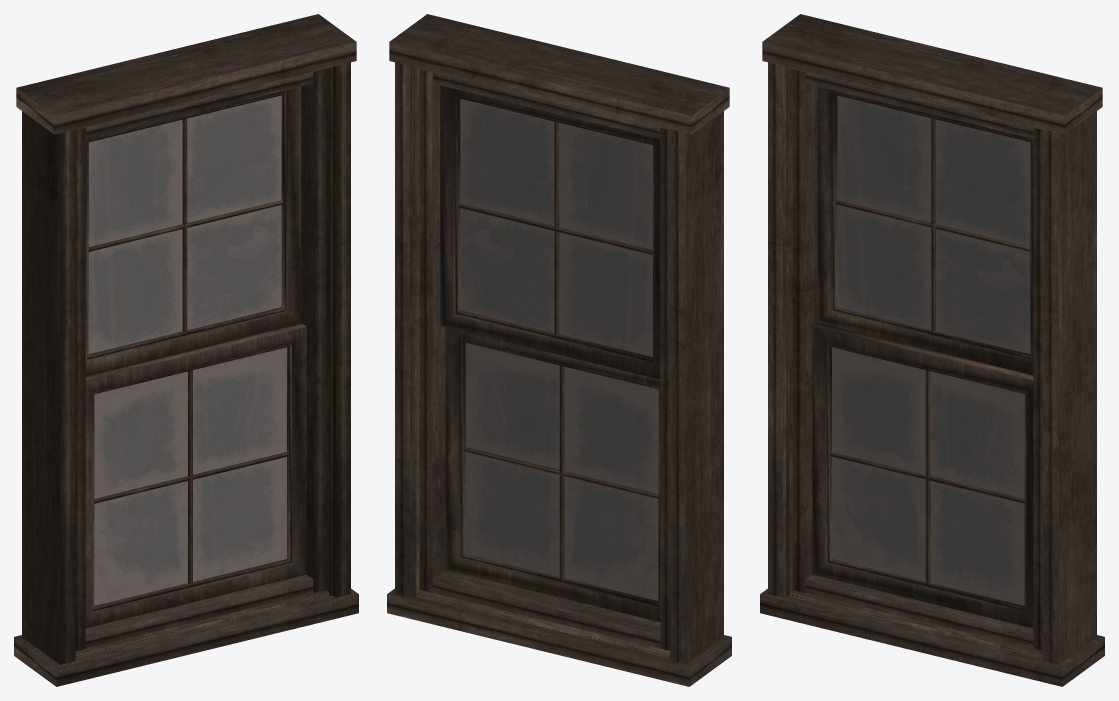
The model's file is realistic_old_wooden_window.glb.
The picture shows the model from 3 angles, left to right: view 1: azimuth 30°, elevation 25°; view 2: azimuth 150°, elevation 25°; view 3: azimuth 330°, elevation 25°; orthographic projection.
Parts seen in each view (by area): view 1: window; view 2: window; view 3: window.
Part boxes in pixels (x1,y1,x2,y2): window: (14,14,358,686); window: (387,14,731,686); window: (760,14,1104,686).
Bounding box in the file's own units: 0.6067 × 1.09 × 0.1476.
2 materials, 2 textured.
